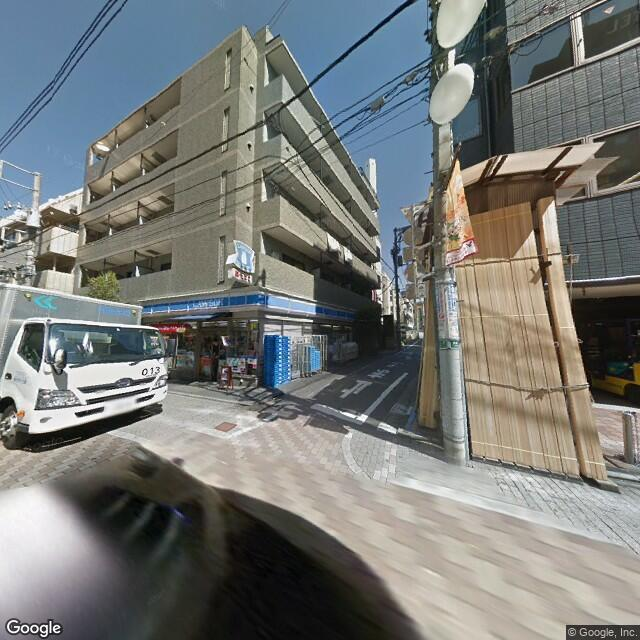lawson: (137, 292, 357, 321), (233, 234, 256, 271)
